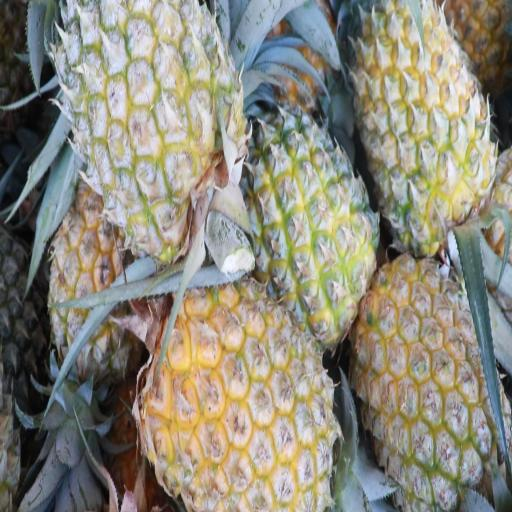------------------------------: (64, 0, 248, 238), (247, 114, 374, 328), (47, 196, 144, 371)
Pineapple - v8 v1: (152, 290, 342, 506), (364, 0, 494, 241), (367, 262, 492, 503)
